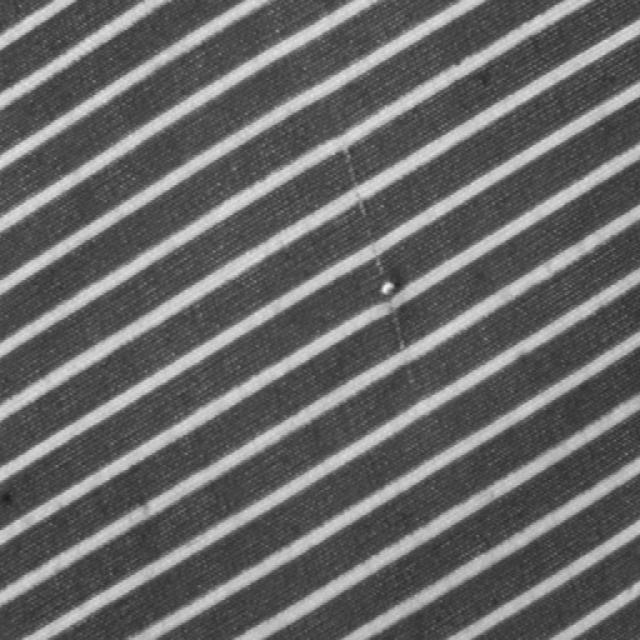Hole-Defect: (338, 144, 412, 352), (399, 360, 419, 384)
